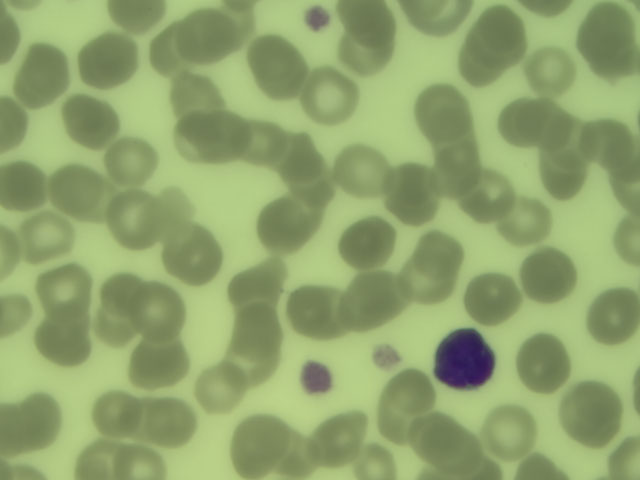Platelets: (296, 361, 333, 394), (302, 5, 332, 31), (373, 345, 401, 372)
RBC: (157, 227, 228, 291), (171, 113, 249, 170), (562, 382, 625, 443), (576, 5, 640, 64), (125, 284, 189, 340), (253, 199, 314, 257), (230, 415, 284, 480), (341, 272, 400, 330), (390, 164, 446, 224), (16, 213, 81, 264), (336, 146, 393, 203), (75, 35, 138, 86), (167, 70, 226, 124), (518, 333, 570, 394), (219, 333, 281, 384), (32, 318, 95, 365), (180, 11, 235, 64), (379, 378, 432, 433), (465, 273, 523, 323), (411, 228, 466, 280), (413, 83, 478, 127), (521, 249, 576, 301), (132, 335, 187, 386), (488, 400, 536, 457), (102, 194, 160, 241), (303, 70, 354, 123), (589, 290, 640, 343), (341, 218, 396, 267), (32, 268, 96, 310), (339, 1, 400, 45), (232, 259, 290, 305), (194, 361, 248, 410), (102, 140, 162, 183), (409, 414, 460, 464), (422, 115, 484, 156), (53, 163, 103, 213), (313, 410, 364, 459), (288, 287, 340, 335), (426, 149, 479, 196), (89, 391, 142, 437), (154, 394, 199, 448), (149, 189, 194, 243), (458, 178, 514, 221), (274, 132, 325, 179), (399, 259, 452, 304), (21, 391, 61, 450), (289, 165, 338, 213), (502, 197, 551, 245), (232, 121, 282, 168), (455, 43, 508, 87), (582, 116, 630, 164), (529, 48, 576, 96), (519, 102, 568, 148), (261, 51, 306, 101), (10, 67, 69, 105), (537, 154, 588, 197), (115, 440, 169, 480), (229, 307, 283, 347), (497, 98, 540, 148), (466, 29, 527, 64), (278, 430, 320, 480), (2, 164, 46, 210), (93, 302, 137, 348), (548, 120, 594, 164), (75, 437, 122, 480), (81, 180, 122, 229), (84, 104, 127, 150), (100, 272, 146, 315), (338, 38, 393, 73), (405, 1, 469, 31), (1, 92, 32, 153), (24, 42, 70, 83), (601, 167, 640, 215), (105, 2, 173, 29), (355, 441, 401, 480), (47, 299, 92, 338), (149, 28, 192, 68), (122, 397, 164, 437), (1, 401, 30, 458), (246, 37, 289, 75), (610, 216, 640, 270), (443, 426, 483, 465), (480, 9, 523, 44), (606, 138, 640, 180), (522, 451, 570, 480), (608, 437, 640, 480), (1, 294, 32, 335), (61, 94, 96, 129), (465, 451, 505, 480), (1, 10, 22, 59), (1, 224, 19, 276)
WBC: (430, 322, 502, 395)
